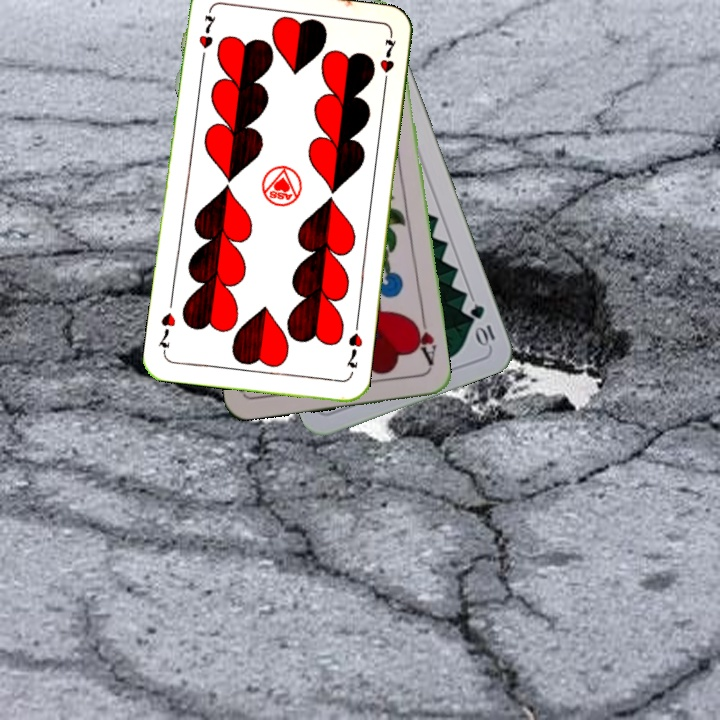G10: (466, 300, 498, 349)
H7: (194, 8, 219, 67), (342, 329, 365, 371)
HA: (408, 312, 439, 371)
